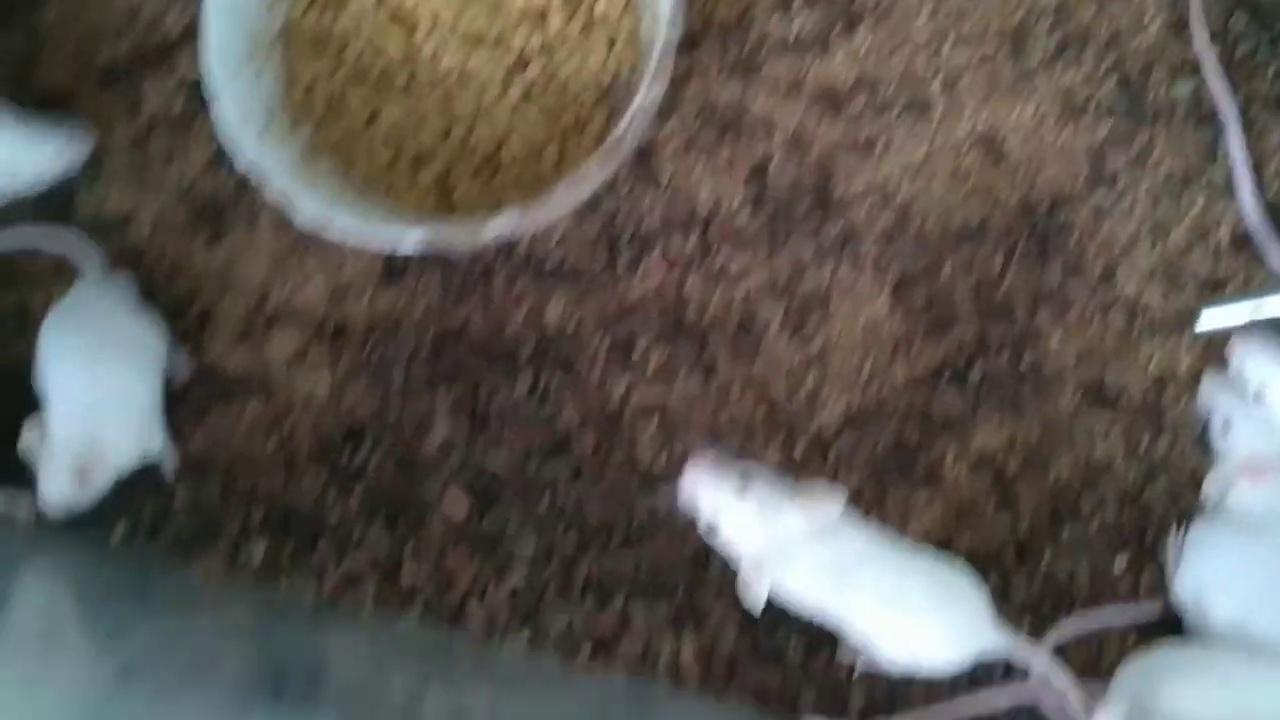rat: (678, 448, 1088, 718), (0, 225, 195, 519)
